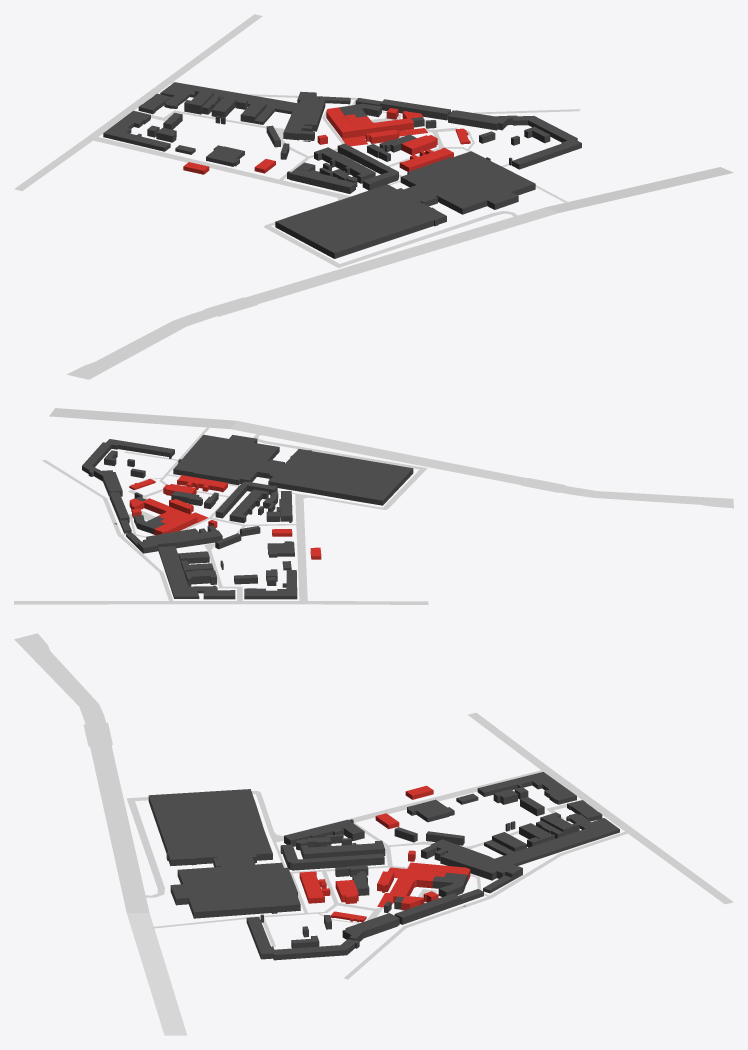
The model's file is MAP-VEF.glb.
3 views of the same model, one above another, from view 1: azimuth 30°, elevation 25°; view 2: azimuth 150°, elevation 25°; view 3: azimuth 270°, elevation 25° (orthographic). The views are drawn at different scales.
Visible parts, largest first — view 1: OTHER, DOMINA, ROAD, BRIVIBAS IELA, 2; view 2: OTHER, ROAD, DOMINA, BRIVIBAS IELA, UNIJAS IELA, 2, 7; view 3: OTHER, ROAD, DOMINA, BRIVIBAS IELA, UNIJAS IELA, 2.
Boxes of the visible parts, <box> form: OTHER: <box>103,82,581,193</box>; DOMINA: <box>275,151,535,258</box>; ROAD: <box>67,100,733,379</box>; BRIVIBAS IELA: <box>14,14,262,190</box>; 2: <box>399,147,453,171</box>; OTHER: <box>82,439,297,599</box>; ROAD: <box>49,408,733,600</box>; DOMINA: <box>173,434,413,505</box>; BRIVIBAS IELA: <box>14,601,428,604</box>; UNIJAS IELA: <box>42,460,173,600</box>; 2: <box>177,475,227,492</box>; 7: <box>154,514,197,534</box>; OTHER: <box>246,772,619,960</box>; ROAD: <box>14,633,581,1035</box>; DOMINA: <box>148,789,300,918</box>; BRIVIBAS IELA: <box>467,712,733,904</box>; UNIJAS IELA: <box>344,831,627,979</box>; 2: <box>299,871,330,903</box>.
Bounding box in the file's own units: 7.73 × 0.2883 × 6.15.
